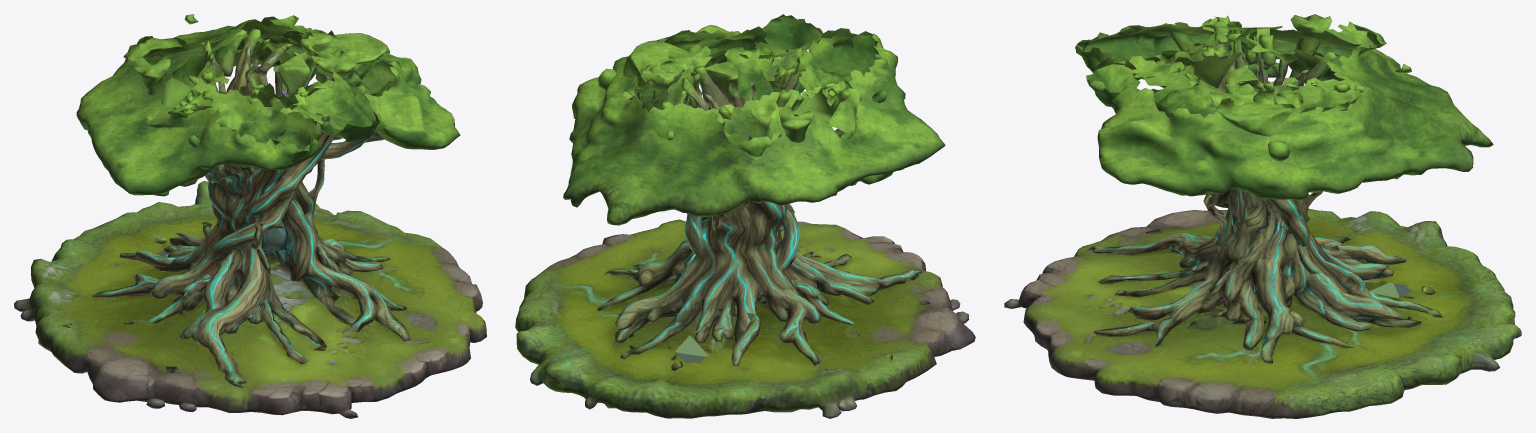
File: life_tree.fbx
The picture shows the model from 3 angles, left to right: view 1: azimuth 30°, elevation 25°; view 2: azimuth 150°, elevation 25°; view 3: azimuth 270°, elevation 25°; orthographic projection. The views are drawn at different scales.
Parts seen in each view (by area): view 1: mesh_node; view 2: mesh_node; view 3: mesh_node.
Boxes of the visible parts, <box> form: mesh_node: <box>14,14,486,418</box>; mesh_node: <box>515,14,975,418</box>; mesh_node: <box>1004,14,1521,418</box>.
Bounding box in the file's own units: 803 × 500 × 884.
Materials: 1 (1 with a texture image).
